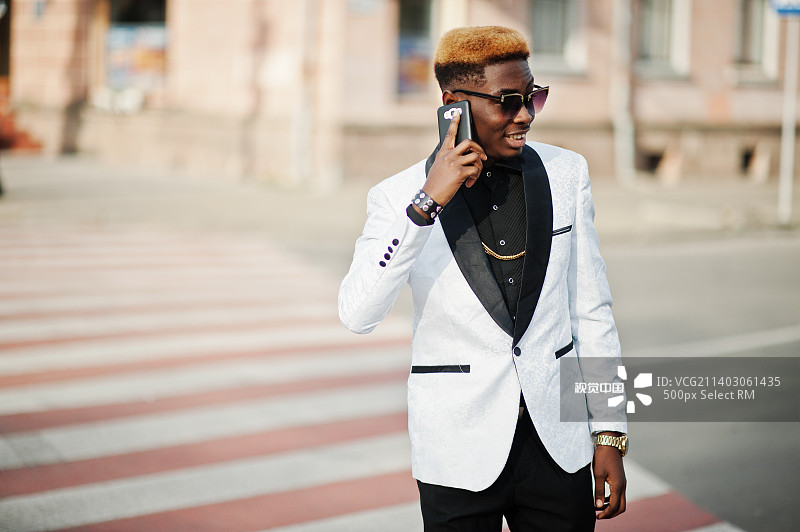calling: (400, 102, 502, 220)
no-phone: (580, 436, 645, 526)
